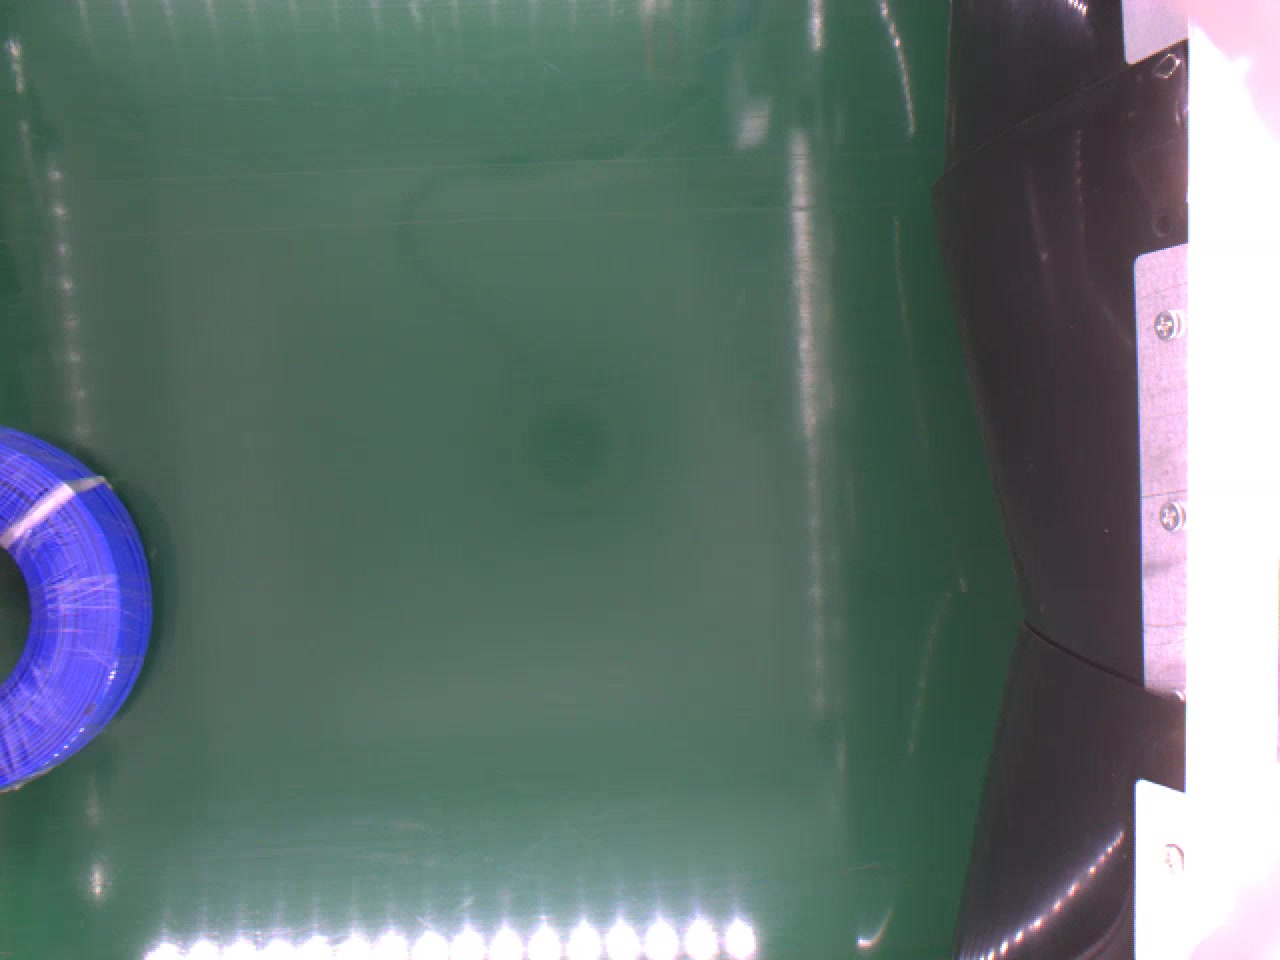blue: (0, 425, 156, 794)
